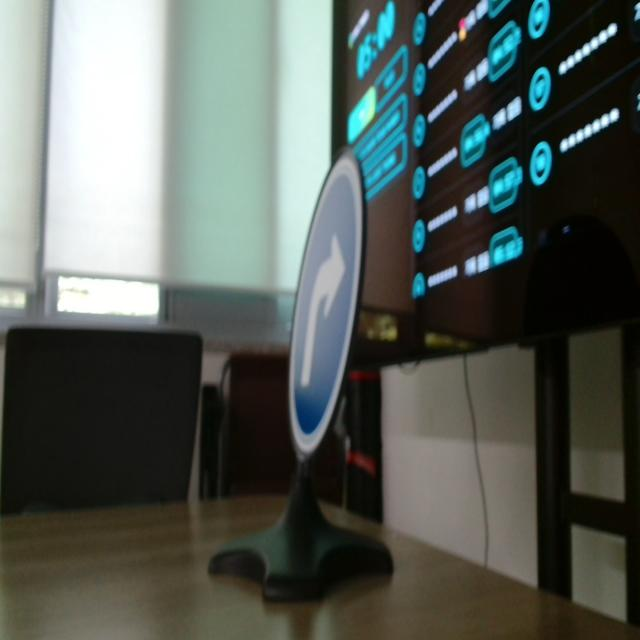right_dierection: (271, 140, 378, 472)
